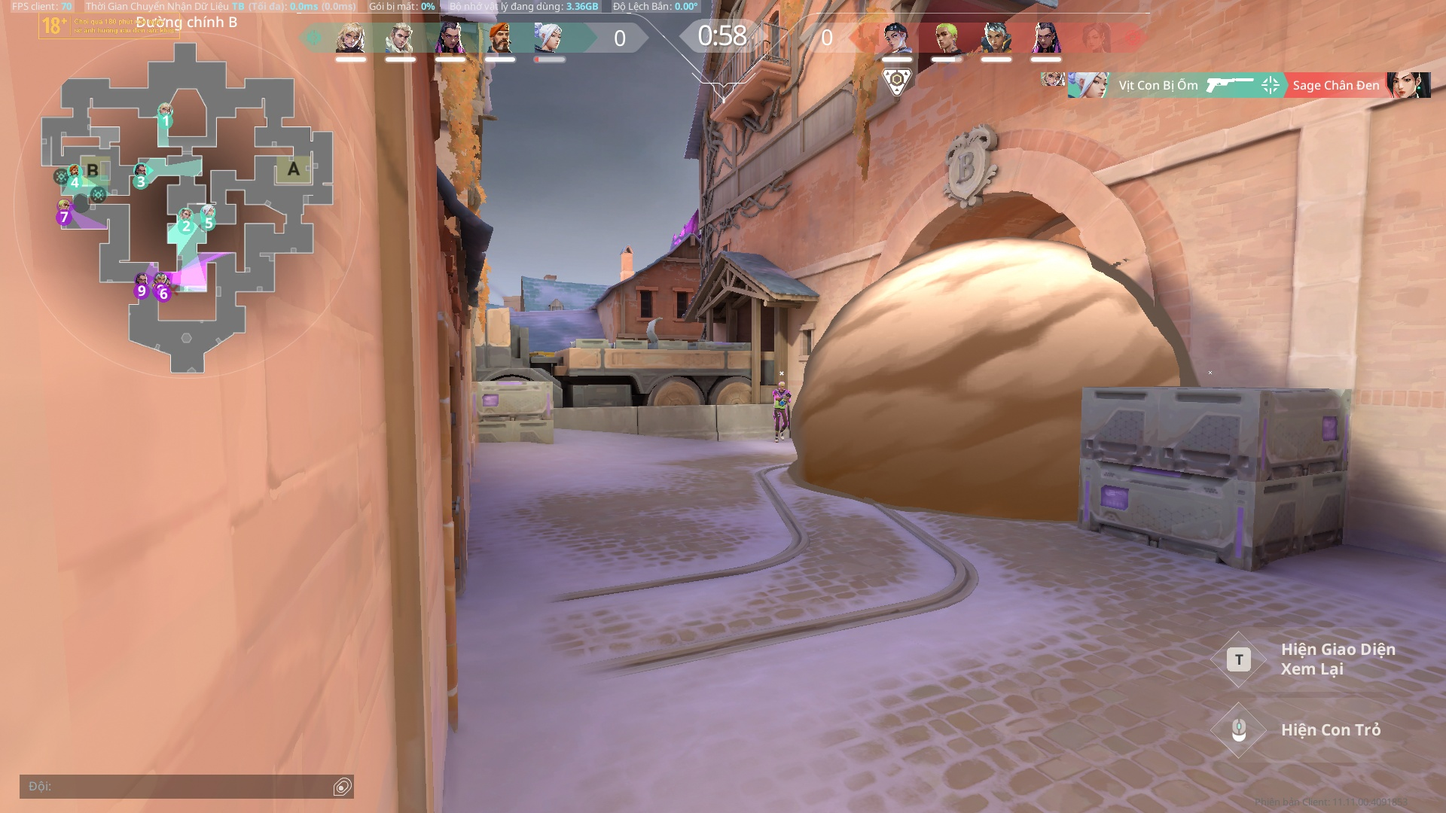body: (772, 388, 791, 406)
head: (778, 382, 785, 389)
